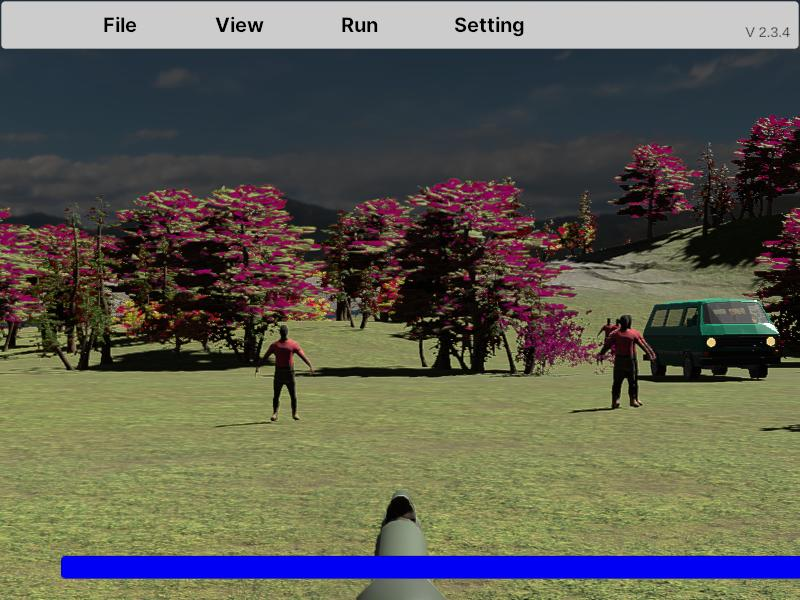Human: (256, 325, 313, 422), (598, 315, 654, 409)
car: (640, 298, 781, 381)
